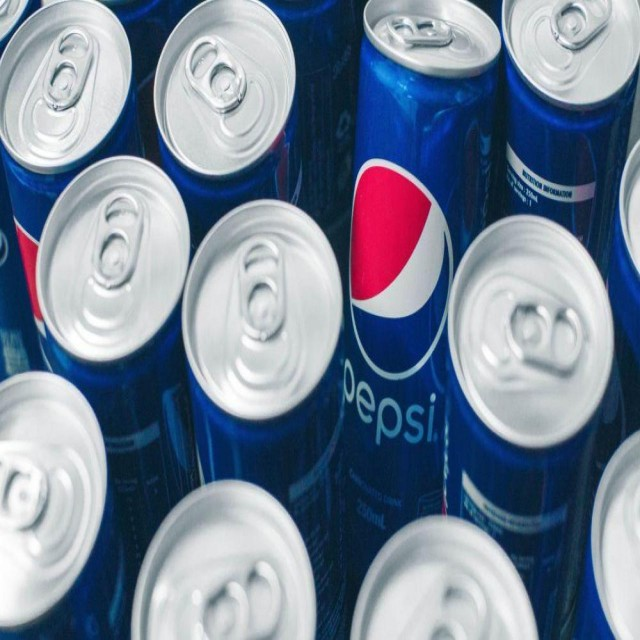pepsi: (347, 150, 460, 386)
